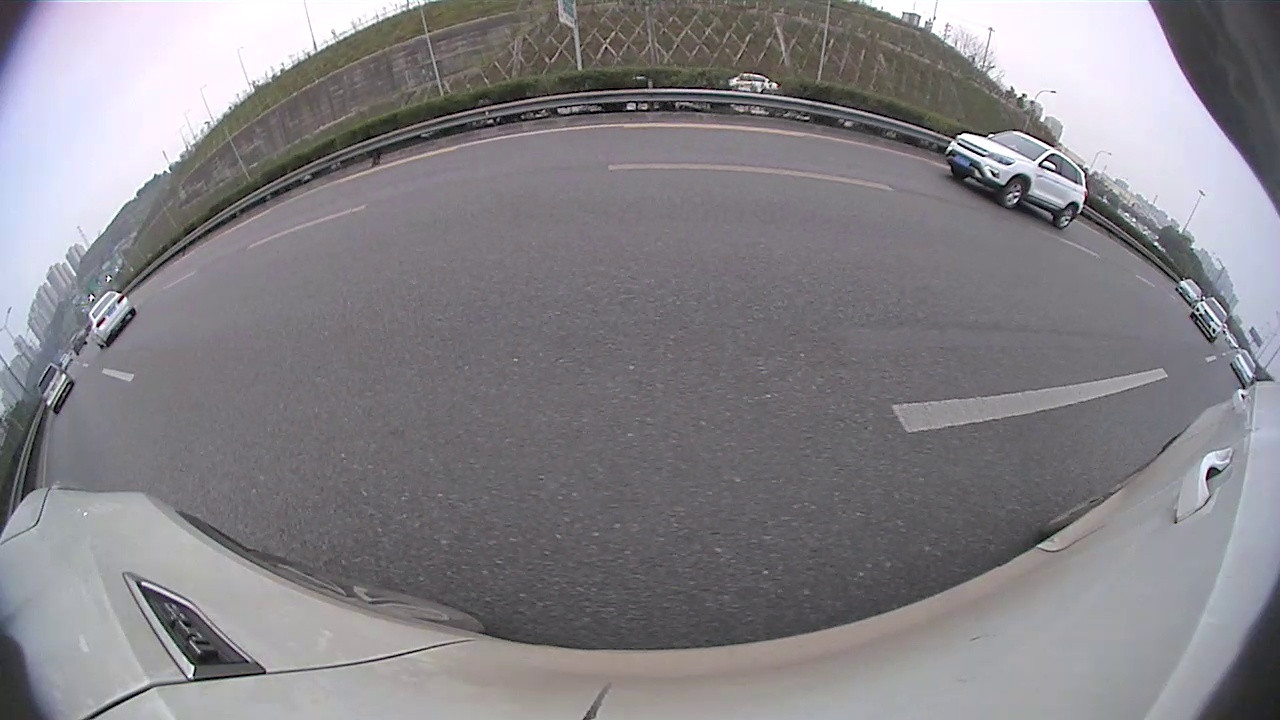car: (1, 179, 388, 515), (1018, 177, 1278, 461), (571, 104, 805, 262), (493, 156, 572, 208), (802, 153, 862, 216)
front: (981, 247, 1053, 329), (321, 228, 378, 304)
rear: (28, 416, 120, 511)
rider: (828, 84, 1070, 329)
